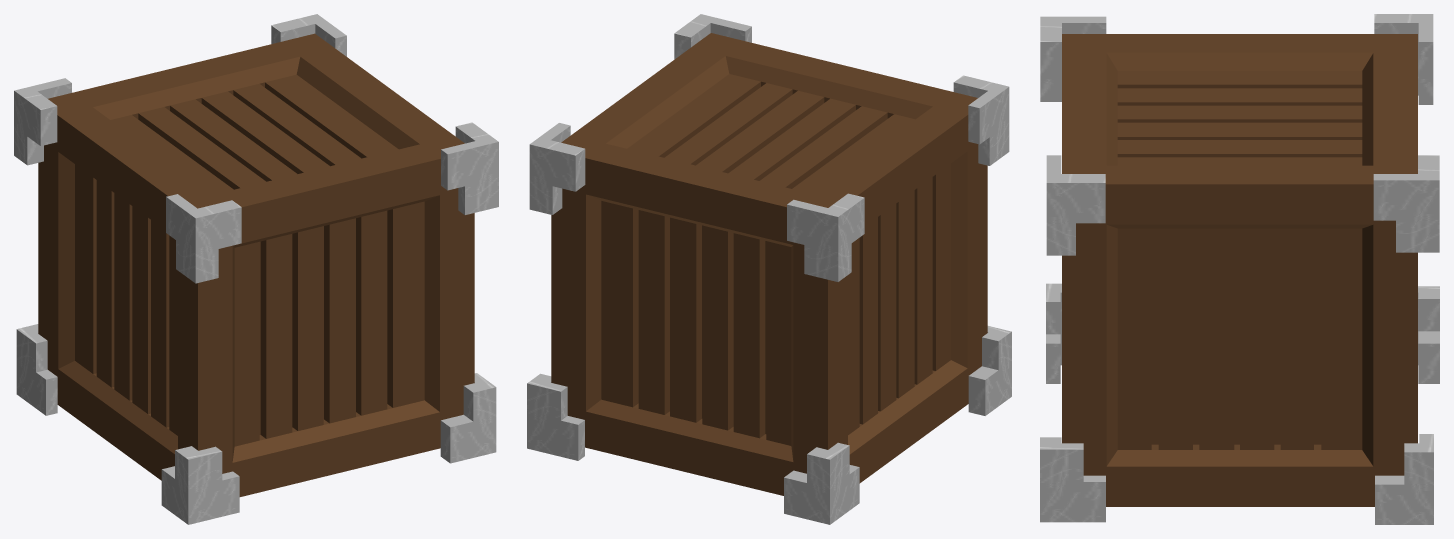
Rendered from crate export.fbx.
The picture shows the model from 3 angles, left to right: view 1: azimuth 30°, elevation 25°; view 2: azimuth 150°, elevation 25°; view 3: azimuth 270°, elevation 25°; orthographic projection. The views are drawn at different scales.
Visible parts, largest first — view 1: Cargo_Cube_Base, Safety_Corner_7, Safety_Corner_8, Safety_Corner_1, Safety_Corner_2, Safety_Corner_5, Safety_Corner_6, Safety_Corner_4; view 2: Cargo_Cube_Base, Safety_Corner_5, Safety_Corner_6, Safety_Corner_4, Safety_Corner_3, Safety_Corner_8, Safety_Corner_7, Safety_Corner_1; view 3: Cargo_Cube_Base, Safety_Corner_4, Safety_Corner_2, Safety_Corner_1, Safety_Corner_3, Safety_Corner_8, Safety_Corner_5, Safety_Corner_6, Safety_Corner_7.
Boxes of the visible parts, box(x1,y1,x2,y2) form: Cargo_Cube_Base: box(38, 33, 474, 496); Safety_Corner_7: box(161, 446, 239, 524); Safety_Corner_8: box(166, 194, 241, 283); Safety_Corner_1: box(441, 122, 498, 214); Safety_Corner_2: box(440, 373, 496, 463); Safety_Corner_5: box(14, 78, 71, 165); Safety_Corner_6: box(16, 324, 57, 415); Safety_Corner_4: box(271, 14, 346, 56); Cargo_Cube_Base: box(551, 33, 987, 495); Safety_Corner_5: box(787, 193, 864, 281); Safety_Corner_6: box(784, 442, 859, 524); Safety_Corner_4: box(529, 123, 585, 214); Safety_Corner_3: box(527, 373, 584, 460); Safety_Corner_8: box(953, 75, 1009, 165); Safety_Corner_7: box(968, 326, 1011, 415); Safety_Corner_1: box(674, 14, 751, 59); Cargo_Cube_Base: box(1062, 34, 1417, 506); Safety_Corner_4: box(1373, 155, 1439, 252); Safety_Corner_2: box(1040, 437, 1105, 522); Safety_Corner_1: box(1046, 155, 1105, 255); Safety_Corner_3: box(1375, 434, 1433, 524); Safety_Corner_8: box(1040, 16, 1106, 101); Safety_Corner_5: box(1374, 14, 1433, 104); Safety_Corner_6: box(1418, 286, 1439, 383); Safety_Corner_7: box(1046, 283, 1061, 383).
Bounding box in the file's own units: 4.5 × 4.24 × 4.49.
